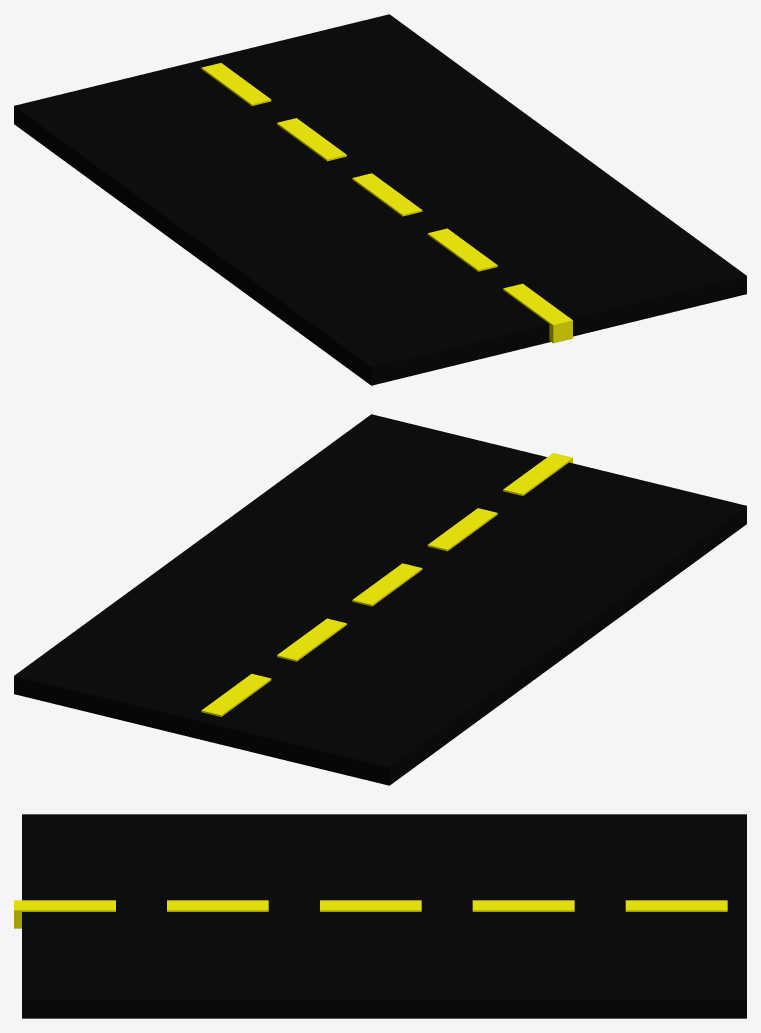
Rendered from Street.fbx.
3 renders of one model, top to bottom at view 1: azimuth 30°, elevation 25°; view 2: azimuth 150°, elevation 25°; view 3: azimuth 270°, elevation 25°, orthographic.
Parts seen in each view (by area): view 1: Street, LaneDivider__0_, LaneDivider__2_, LaneDivider__1_, LaneDivider__3_, LaneDivider__4_; view 2: Street, LaneDivider__0_, LaneDivider__4_, LaneDivider__3_, LaneDivider__1_, LaneDivider__2_; view 3: Street, LaneDivider__0_, LaneDivider__3_, LaneDivider__4_, LaneDivider__1_, LaneDivider__2_.
Part boxes in pixels (x1,y1,x2,y2): Street: [14, 14, 746, 385]; LaneDivider__0_: [503, 283, 572, 343]; LaneDivider__2_: [352, 173, 422, 216]; LaneDivider__1_: [427, 228, 497, 271]; LaneDivider__3_: [277, 118, 346, 161]; LaneDivider__4_: [201, 63, 271, 105]; Street: [14, 414, 746, 785]; LaneDivider__0_: [503, 453, 572, 496]; LaneDivider__4_: [201, 673, 271, 716]; LaneDivider__3_: [277, 618, 346, 661]; LaneDivider__1_: [427, 508, 497, 551]; LaneDivider__2_: [352, 563, 422, 606]; Street: [22, 814, 746, 1018]; LaneDivider__0_: [14, 900, 115, 928]; LaneDivider__3_: [472, 900, 574, 911]; LaneDivider__4_: [625, 900, 727, 911]; LaneDivider__1_: [167, 900, 268, 911]; LaneDivider__2_: [320, 900, 421, 911].
Size of the model in its own units: 1724 by 88.16 by 2875.
